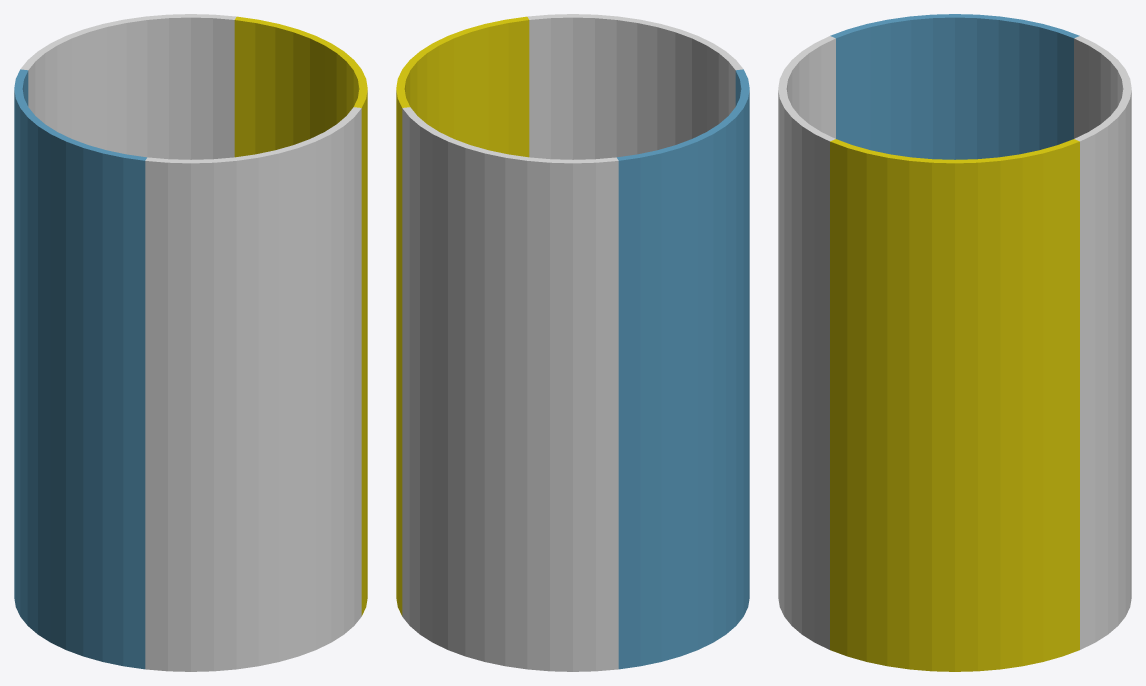
Rendered from mod_lun_bleu_jaune.dae.
3 views of the same model, side by side, from view 1: azimuth 30°, elevation 25°; view 2: azimuth 150°, elevation 25°; view 3: azimuth 270°, elevation 25° (orthographic).
Parts seen in each view (by area): view 1: Mod_Lun_53; view 2: Mod_Lun_53; view 3: Mod_Lun_53.
Boxes of the visible parts, x1,y1,x2,y2 form: Mod_Lun_53: (14, 14, 367, 671); Mod_Lun_53: (396, 14, 749, 671); Mod_Lun_53: (778, 14, 1131, 671).
Size of the model in its own units: 0.3366 by 0.3366 by 0.5342.
